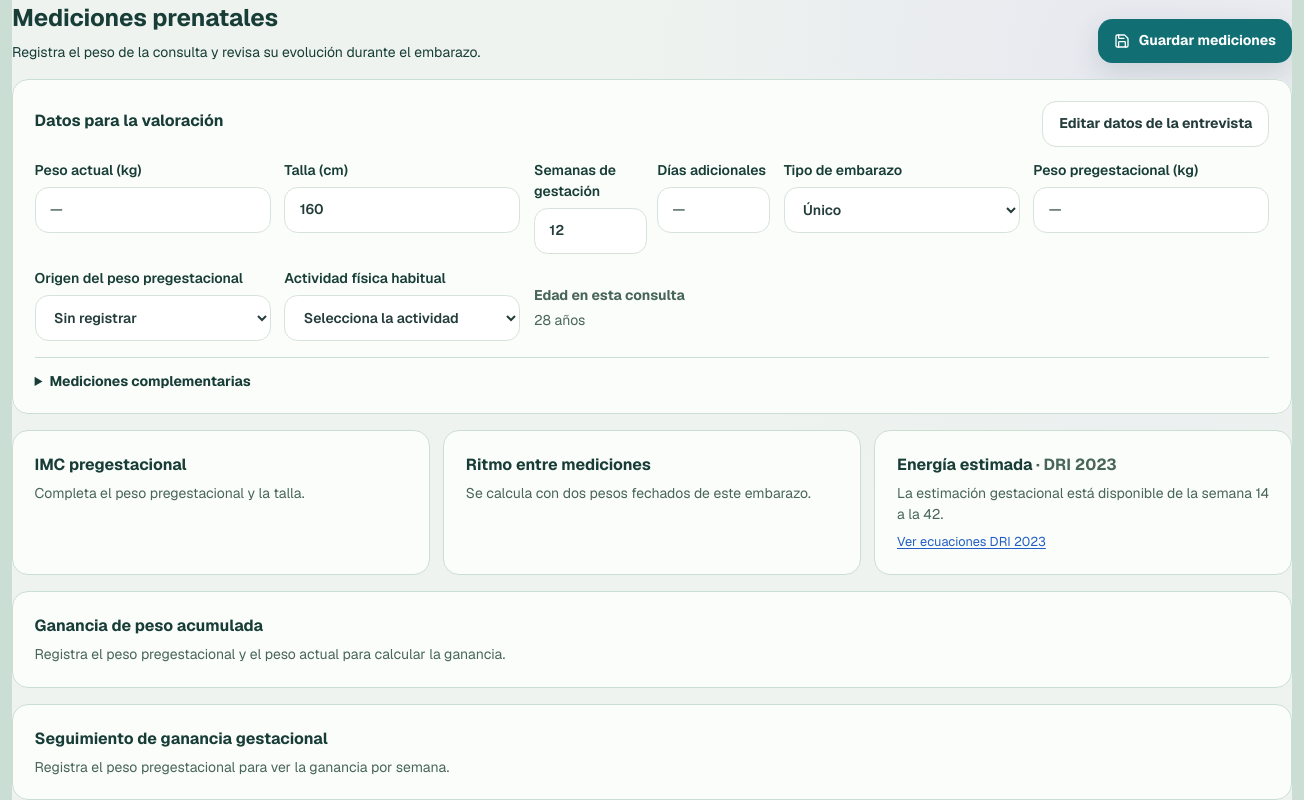
it: private prenatal workspace › explains the covered weeks on the current gain card before the weekly reference starts
The image size is (1304, 800).
Expected: the heading "Mediciones prenatales" is shown, [12, 2, 278, 33]
In the field labelled "Peso actual (kg)": (153, 210) [35, 187, 271, 233], type "62"
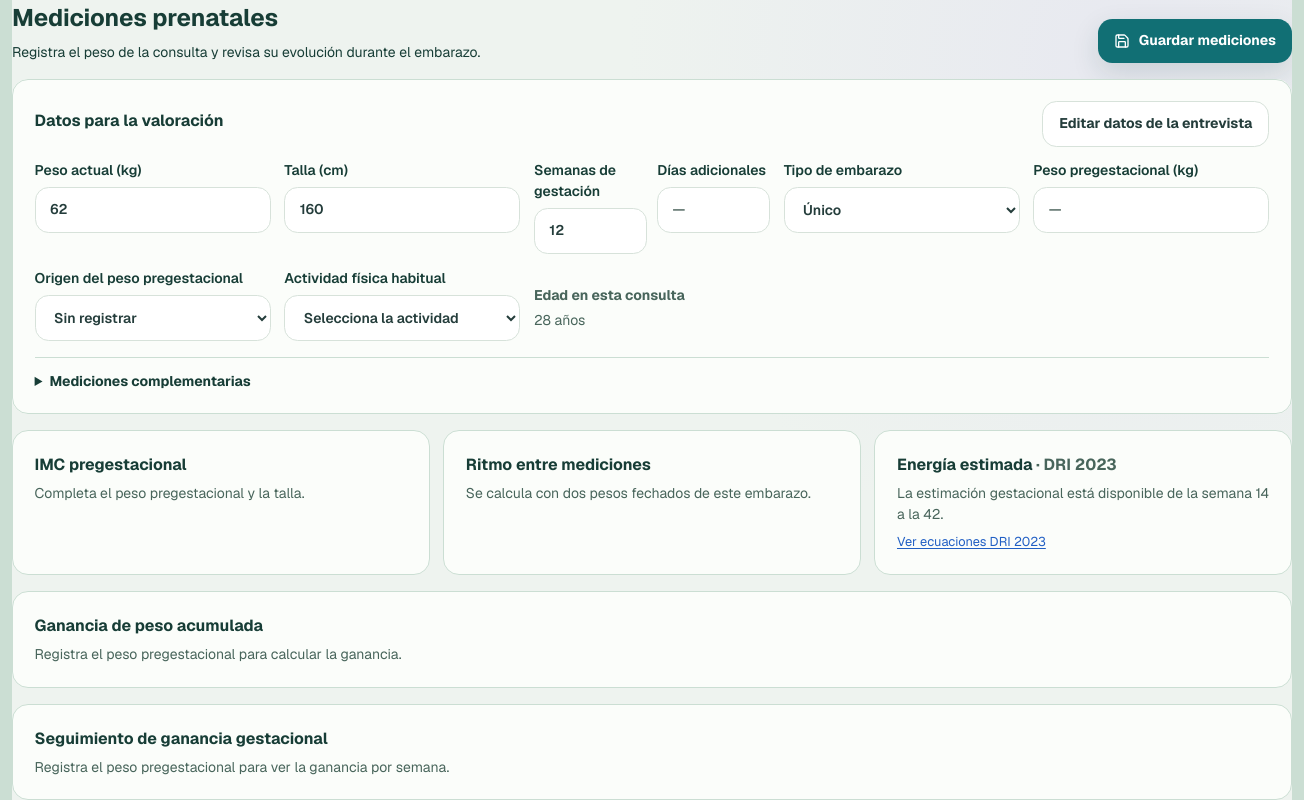
In the field labelled "Peso pregestacional (kg)": (1151, 210) [1033, 187, 1269, 233], type "60"
(page scrolled)
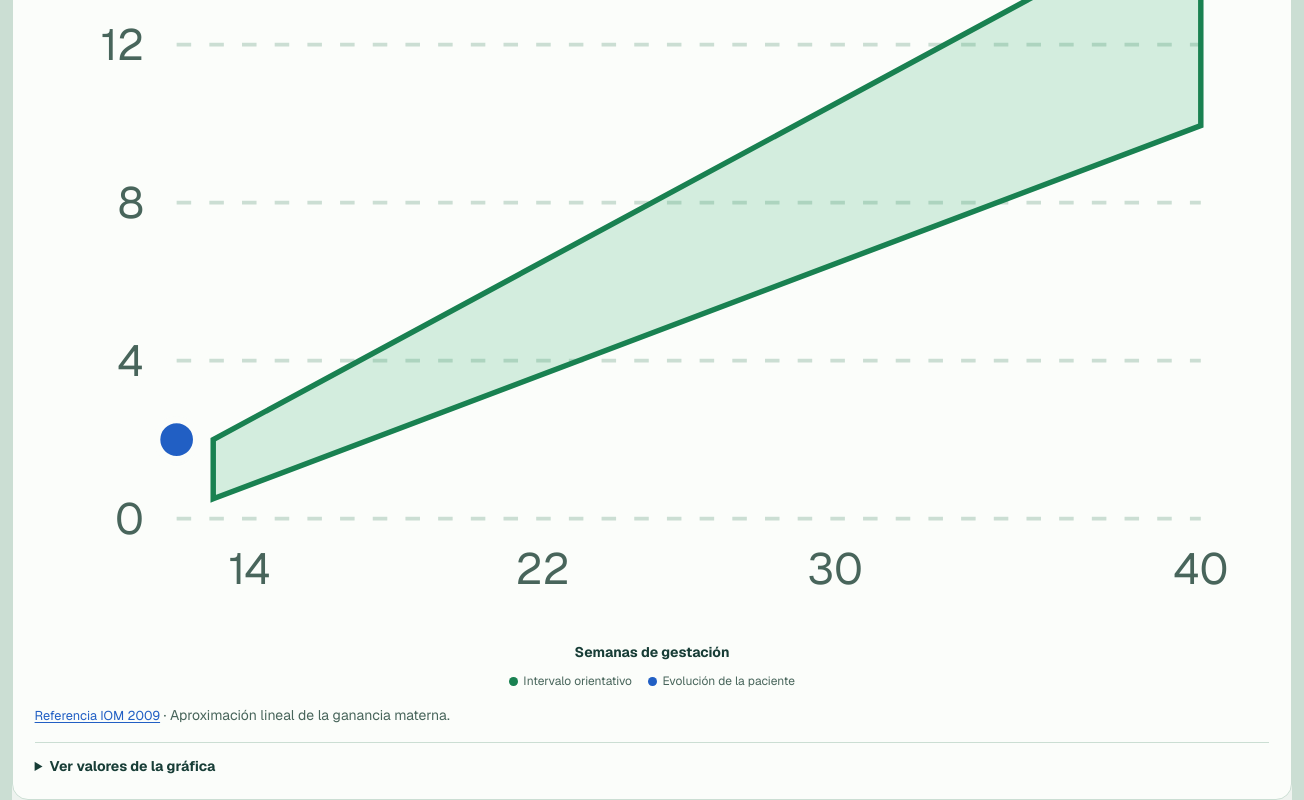
Expected: the text "Evolución de la paciente" is shown, [648, 672, 795, 690]
